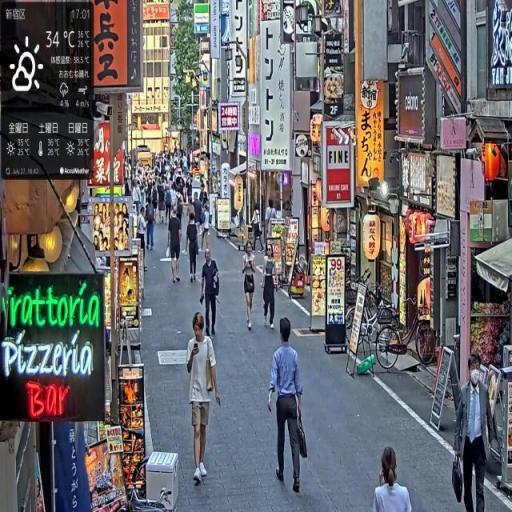person: (268, 316, 307, 496), (453, 356, 495, 512), (186, 311, 223, 485), (373, 446, 414, 512), (199, 247, 221, 340), (242, 240, 258, 333), (262, 245, 279, 331), (168, 205, 183, 288), (187, 211, 201, 285), (146, 197, 157, 251), (202, 201, 211, 250)
